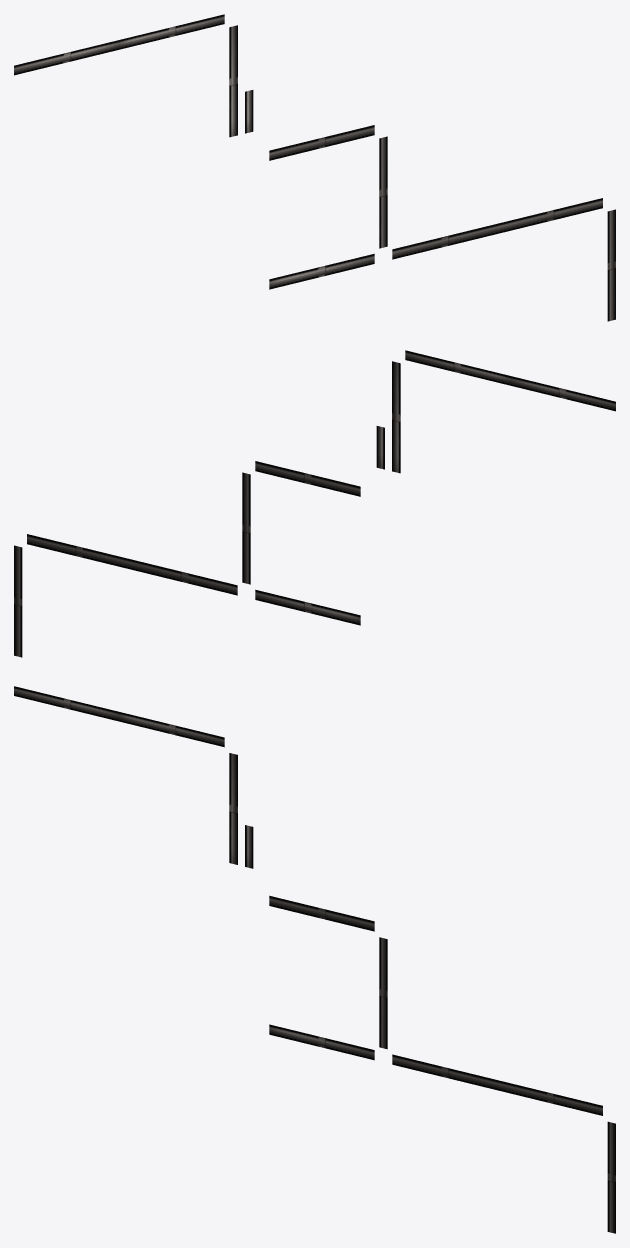
The model's file is Facility_Alpha_82.glb.
The picture shows the model from 3 angles, top to bottom: view 1: azimuth 30°, elevation 25°; view 2: azimuth 150°, elevation 25°; view 3: azimuth 330°, elevation 25°; orthographic projection.
Visible parts, largest first — view 1: Facility_Alpha_82; view 2: Facility_Alpha_82; view 3: Facility_Alpha_82.
Boxes of the visible parts, x1,y1,x2,y2 form: Facility_Alpha_82: [14, 14, 615, 321]; Facility_Alpha_82: [14, 350, 615, 657]; Facility_Alpha_82: [14, 686, 615, 1233].
Size of the model in its own units: 162 by 103 by 0.
1 material, 1 textured.
